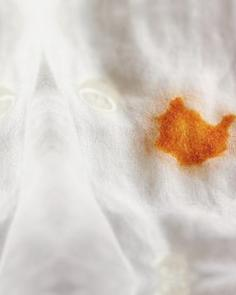stain: (142, 89, 235, 176)
